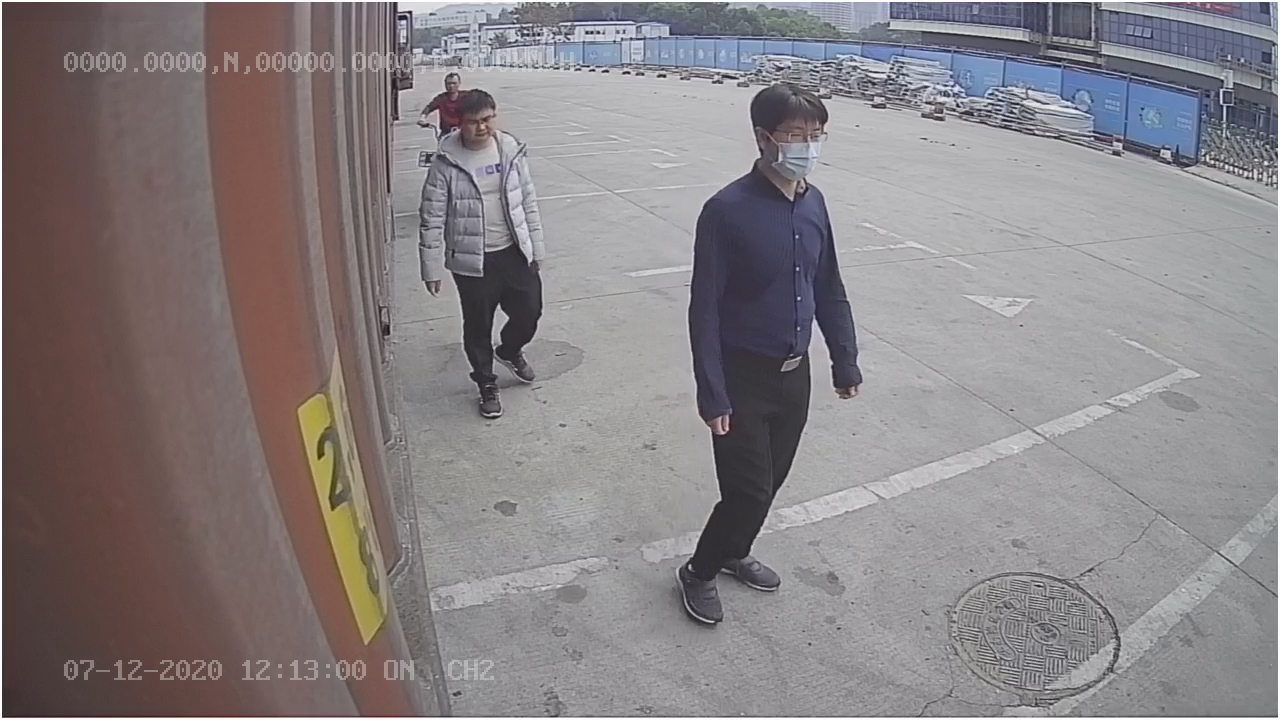person: (670, 75, 863, 630)
